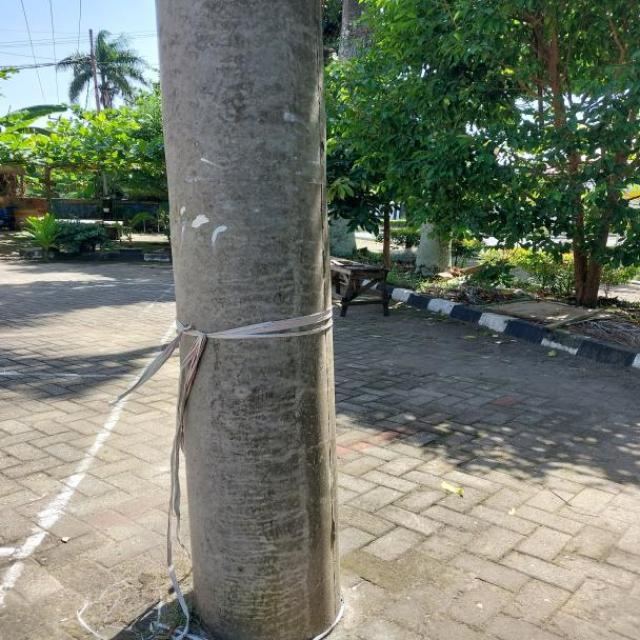tree ahead at: (143, 0, 360, 640)
